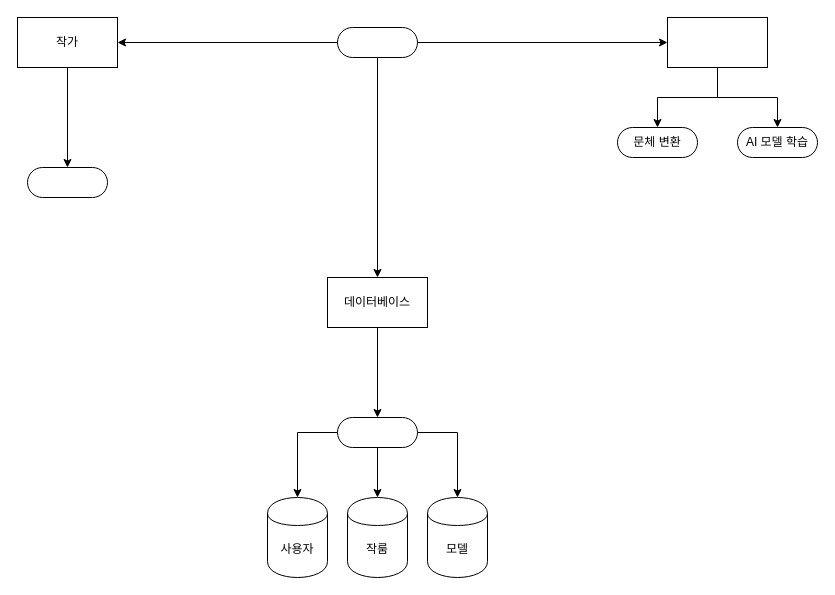
This 835x595 diagram has some shape labels left out. The centre of each missing label's shape, as x and y in pixels:
AI 엔진: (x=717, y=42)
사용자 증: (x=67, y=182)
시스템: (x=377, y=42)
작품 관리: (x=377, y=432)
